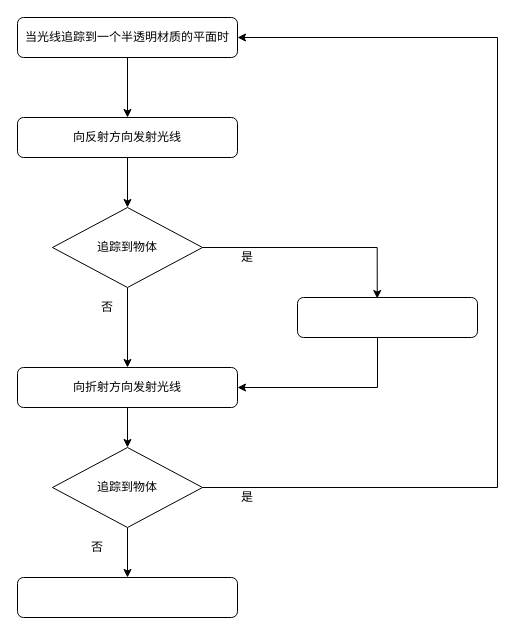
Image size: 523x635. Some labels were removed from this diagram. Each missing label, with the centre of its shape:
结束并加和着色结果: point (127, 597)
计算该物体的着色结果并返回: point (387, 317)
